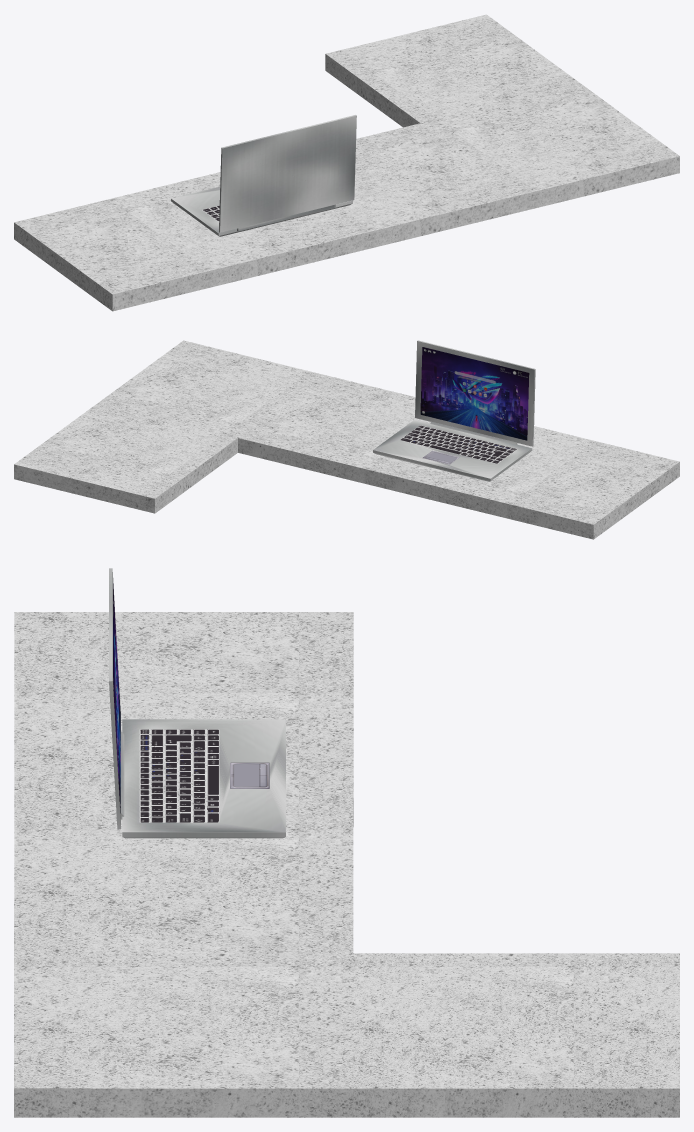
File: 108_Escritorio.fbx
3 renders of one model, top to bottom at view 1: azimuth 30°, elevation 25°; view 2: azimuth 150°, elevation 25°; view 3: azimuth 270°, elevation 25°, orthographic. The views are drawn at different scales.
Parts seen in each view (by area): view 1: Plane.006; view 2: Plane.006; view 3: Plane.006.
Part boxes in pixels (x1,y1,x2,y2): Plane.006: [14, 14, 679, 311]; Plane.006: [14, 340, 679, 539]; Plane.006: [14, 568, 679, 1117].
Bounding box in the file's own units: 259 × 47.8 × 153.
